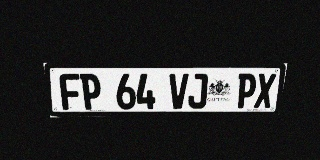4: (136, 74, 155, 109)
6: (116, 74, 136, 109)
F: (59, 74, 82, 110)
J: (188, 74, 208, 109)
P: (80, 74, 102, 110), (235, 73, 257, 108)
V: (169, 74, 189, 109)
X: (254, 73, 276, 108)
